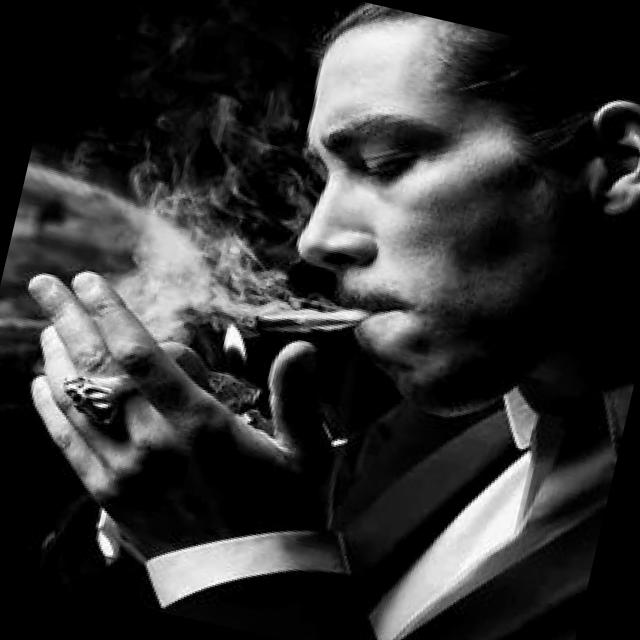smoke: (244, 280, 376, 358)
